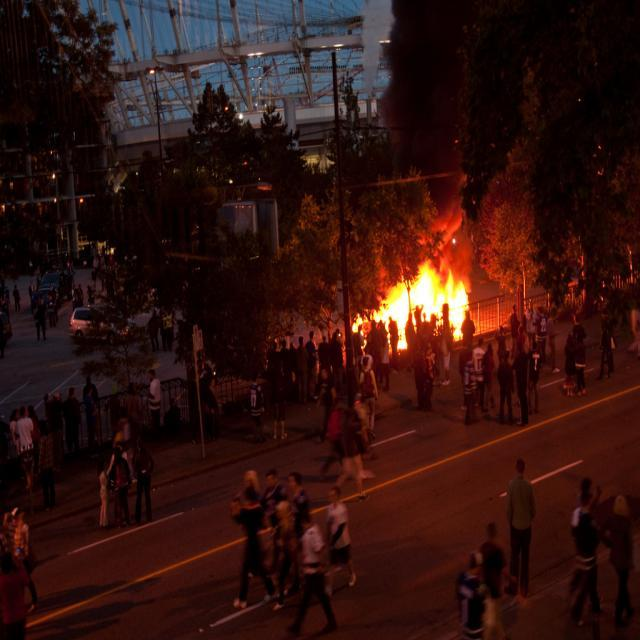Fire: (370, 260, 468, 342)
